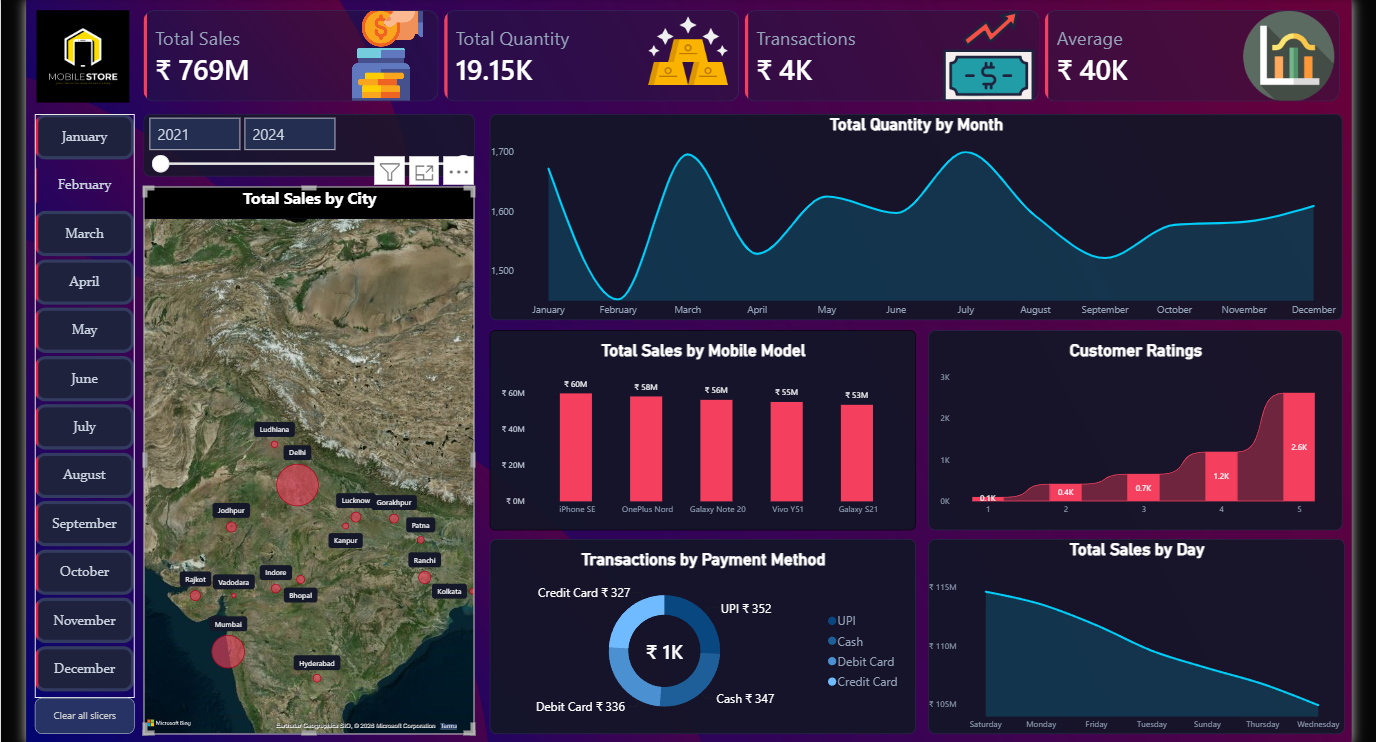

The page's visual inventory and layout, read from the dashboard file:
{"tool":"powerbi","page":{"name":"Mobile Sales Data","canvas":[1920,1080],"ordinal":0},"visuals":[{"type":"advancedSlicerVisual","fields":{"Values":["Mobile Sales.Date.Variation.Date Hierarchy.Month"]},"box":[12.7,166.5,144.8,845.1],"z":1000},{"type":"cardVisual","fields":{"Data":["Mobile Sales.Total Sales","Mobile Sales.Total Quantity","Mobile Sales.Transactions","Mobile Sales.Average"]},"box":[170.1,16.3,1735.5,132.1],"z":2000},{"type":"map","fields":{"Category":["Mobile Sales.City"],"Size":["Mobile Sales.Total Sales"]},"box":[170.1,271.4,479.6,792.6],"z":3000},{"type":"lineChart","fields":{"Category":["Mobile Sales.Date.Variation.Date Hierarchy.Month","Mobile Sales.Date.Variation.Date Hierarchy.Day"],"Y":["Mobile Sales.Total Quantity"]},"box":[671.4,166.5,1234.2,298.6],"z":4000},{"type":"columnChart","fields":{"Category":["Mobile Sales.Mobile Model"],"Y":["Mobile Sales.Total Sales"]},"box":[671.4,479.6,617.1,289.5],"z":5000},{"type":"donutChart","fields":{"Category":["Mobile Sales.Payment Method"],"Y":["Mobile Sales.Transactions"]},"box":[671.4,781.8,617.1,282.3],"z":6000},{"type":"ribbonChart","title":"Customer Ratings","fields":{"Category":["Mobile Sales.Customer Ratings"],"Y":["Sum(Mobile Sales.Customer Ratings)"]},"box":[1306.6,479.6,599,289.5],"z":7000},{"type":"areaChart","fields":{"Category":["Mobile Sales.Day"],"Y":["Mobile Sales.Total Sales"]},"box":[1306.6,781.8,602.6,282.3],"z":8000},{"type":"slicer","fields":{"Values":["Mobile Sales.Date.Variation.Date Hierarchy.Year"]},"box":[170.1,166.5,479.6,90.5],"z":8001},{"type":"image","box":[7.2,16.3,150.2,133.9],"z":8002},{"type":"actionButton","box":[12.7,1011.6,144.8,52.5],"z":8003}]}

Visuals, with their boxes in screenshot pixels (x1, y1, x2, y2):
advancedSlicerVisual - Mobile Sales.Date.Variation.Date Hierarchy.Month: left=27, top=74, right=129, bottom=667
cardVisual - Mobile Sales.Total Sales x Mobile Sales.Total Quantity: left=137, top=0, right=1356, bottom=61
map - Mobile Sales.City x Mobile Sales.Total Sales: left=137, top=148, right=474, bottom=704
lineChart - Mobile Sales.Date.Variation.Date Hierarchy.Month x Mobile Sales.Date.Variation.Date Hierarchy.Day: left=489, top=74, right=1356, bottom=284
columnChart - Mobile Sales.Mobile Model x Mobile Sales.Total Sales: left=489, top=294, right=923, bottom=497
donutChart - Mobile Sales.Payment Method x Mobile Sales.Transactions: left=489, top=506, right=923, bottom=704
"Customer Ratings" ribbonChart: left=935, top=294, right=1356, bottom=497
areaChart - Mobile Sales.Day x Mobile Sales.Total Sales: left=935, top=506, right=1359, bottom=704
slicer - Mobile Sales.Date.Variation.Date Hierarchy.Year: left=137, top=74, right=474, bottom=137
image: left=23, top=0, right=128, bottom=62
actionButton: left=27, top=667, right=129, bottom=704
